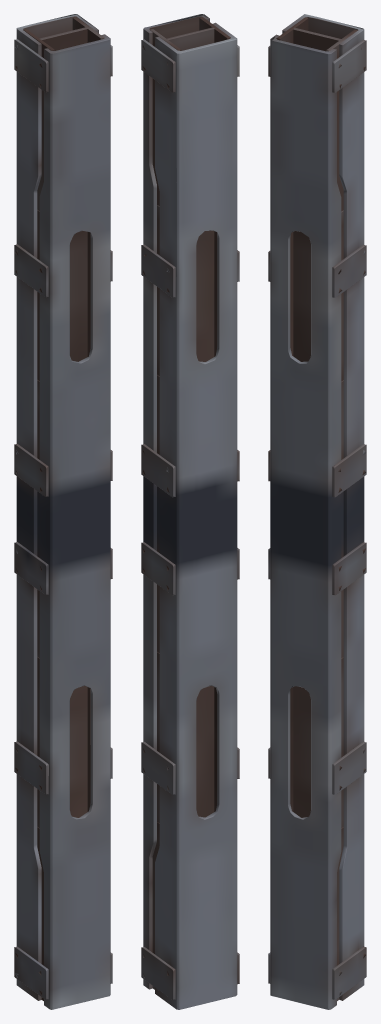
Rendered from Pillar_Thin_Metal_C.glb.
3 renders of one model, left to right at view 1: azimuth 30°, elevation 25°; view 2: azimuth 210°, elevation 25°; view 3: azimuth 330°, elevation 25°, orthographic.
Parts seen in each view (by area): view 1: SM_Metal_PillarThin; view 2: SM_Metal_PillarThin; view 3: SM_Metal_PillarThin.
Part boxes in pixels (x1,y1,x2,y2): SM_Metal_PillarThin: (14, 14, 112, 1009); SM_Metal_PillarThin: (141, 14, 239, 1009); SM_Metal_PillarThin: (268, 14, 366, 1009).
Size of the model in its own units: 0.23 by 3 by 0.2013.
Materials: 1 (1 with a texture image).
